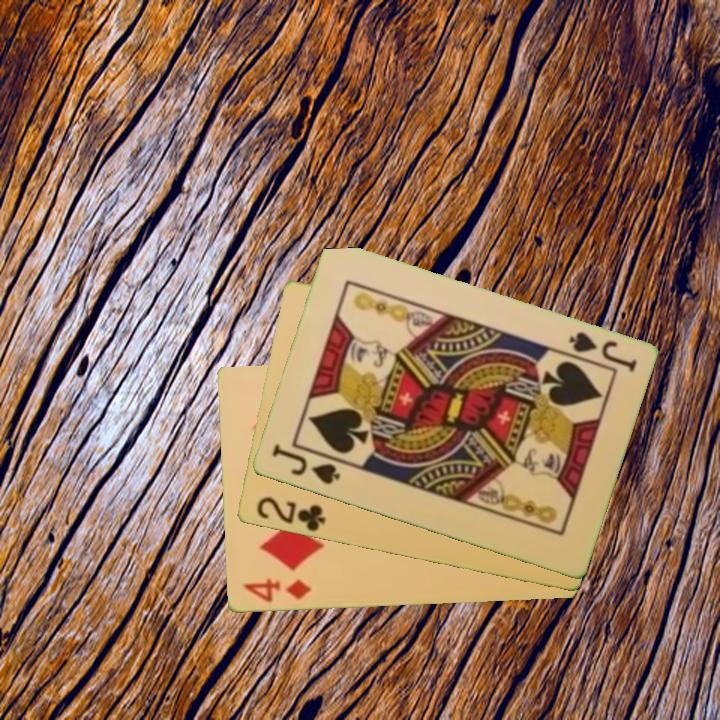2c: (252, 493, 328, 535)
4d: (240, 575, 313, 606)
Js: (564, 328, 640, 376), (268, 440, 343, 488)
